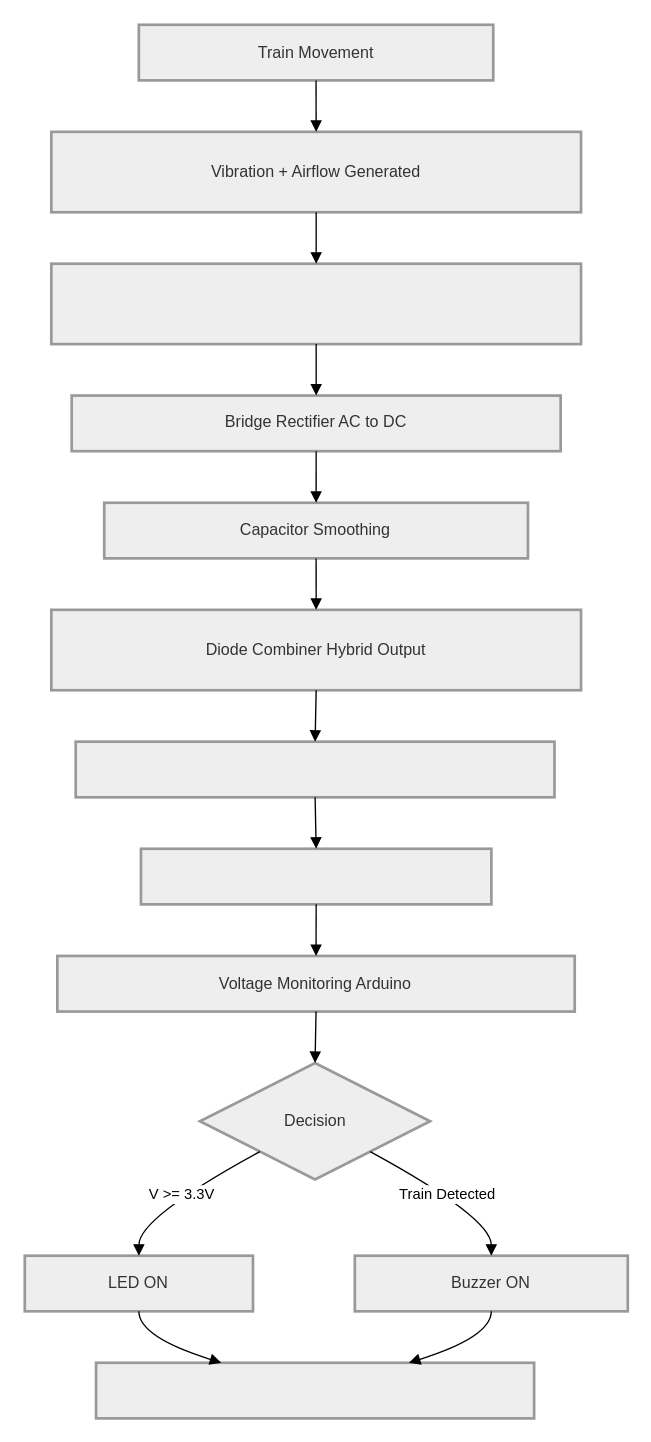
Image size: 651x1442. Some labels were removed from this diagram. The centre of each missing label's shape, as x and y in pixels:
"Battery Storage" goes at [315,876].
"Continuous Operation" goes at [314,1390].
"Piezo Sensors + Turbine Generate AC" goes at [315,303].
"TP4056 Charging Module" goes at [314,769].
